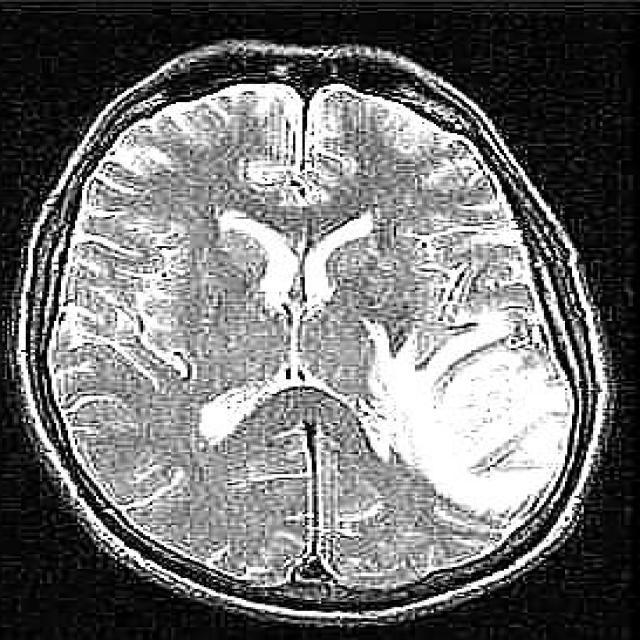tumor: (363, 315, 577, 521)
